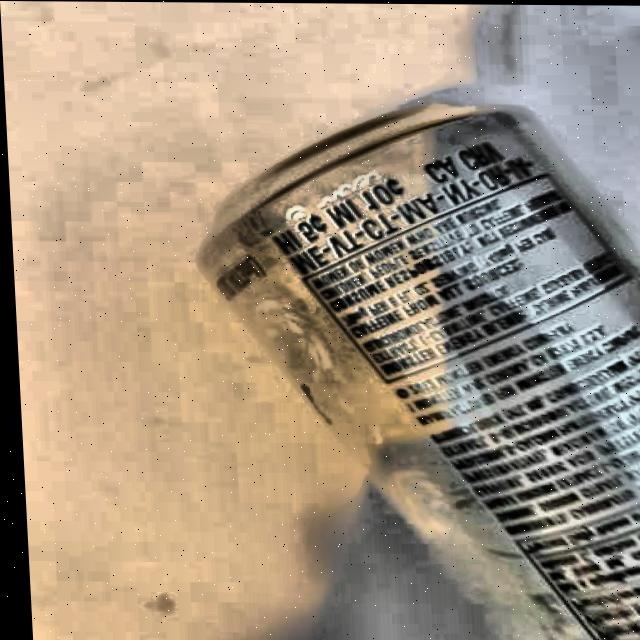metal: (183, 92, 640, 640)
